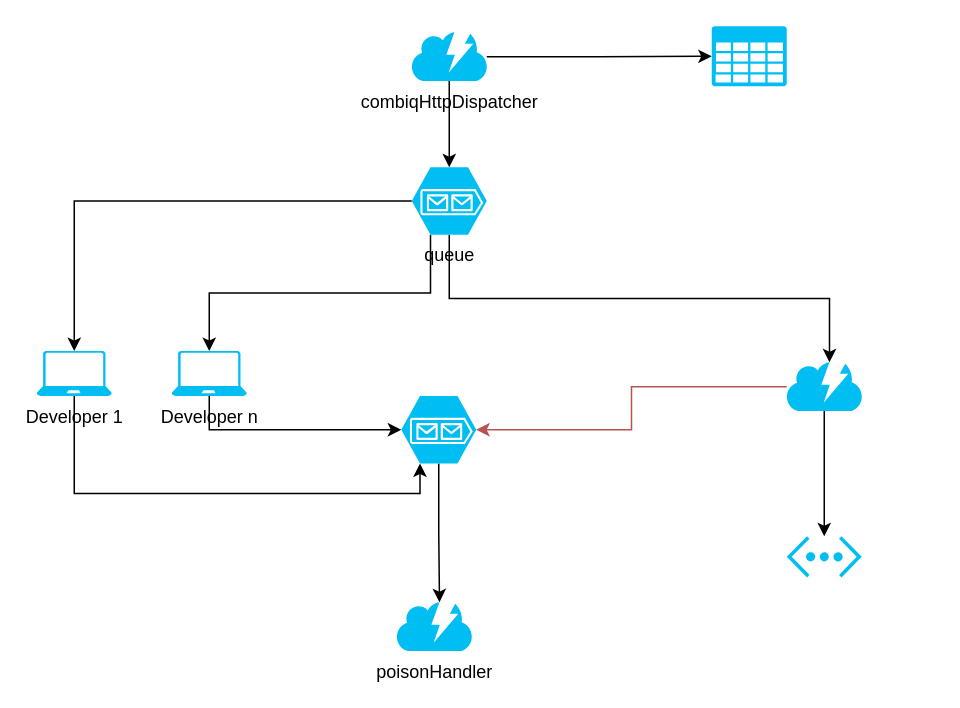
Some shapes in this 960 by 708 pixel diagram are drawn without their labels. Here are the shapes that lost their labels. From the top down, the box of each, then its label:
(711, 26, 786, 86): ArchiveData
(786, 362, 861, 410): combiqParser (n instances)
(400, 395, 476, 463): queue-poison
